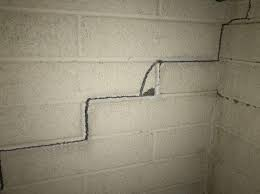stairstep_crack: (0, 0, 251, 151)
